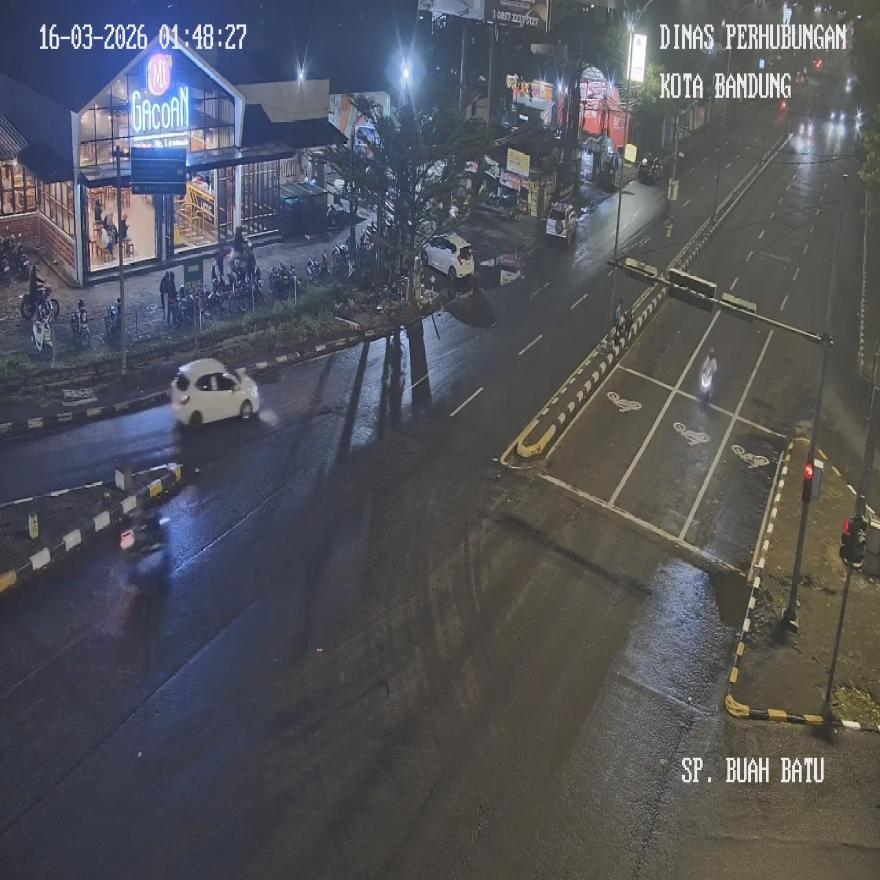Motor: (169, 356, 259, 426), (423, 233, 474, 282)
Truk: (20, 281, 59, 323), (269, 260, 298, 302), (71, 298, 90, 347), (32, 316, 53, 360), (203, 280, 225, 321), (307, 249, 330, 285), (700, 357, 716, 403), (104, 296, 120, 341)
